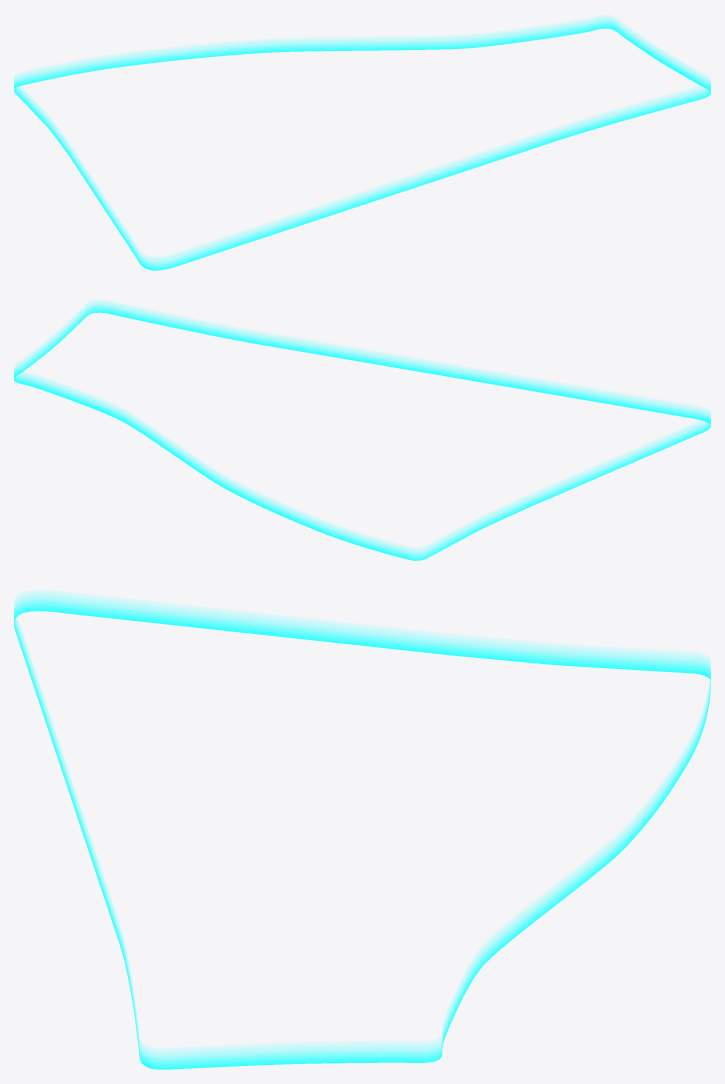
The model's file is 浙理工电子围栏.glb.
3 views of the same model, one above another, from view 1: azimuth 30°, elevation 25°; view 2: azimuth 150°, elevation 25°; view 3: azimuth 270°, elevation 25° (orthographic). The views are drawn at different scales.
Visible parts, largest first — view 1: Curve; view 2: Curve; view 3: Curve.
Boxes of the visible parts, bbox=[...] form: Curve: bbox=[14, 16, 710, 270]; Curve: bbox=[14, 301, 710, 560]; Curve: bbox=[14, 592, 710, 1069].
Size of the model in its own units: 892 by 19.98 by 573.
Materials: 1 (1 with a texture image).
